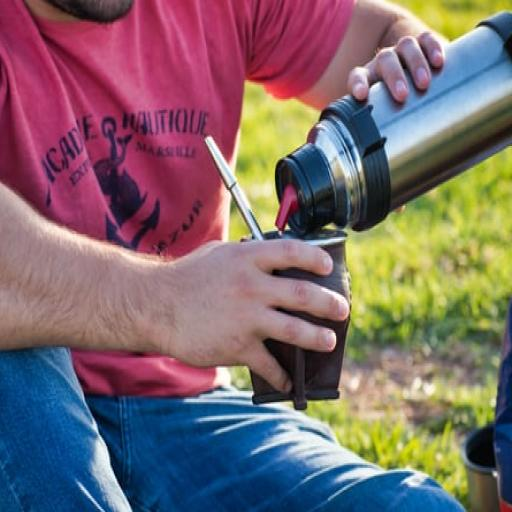termo: (275, 13, 511, 235)
